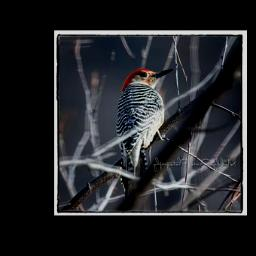Woodpecker: (113, 62, 177, 176)
